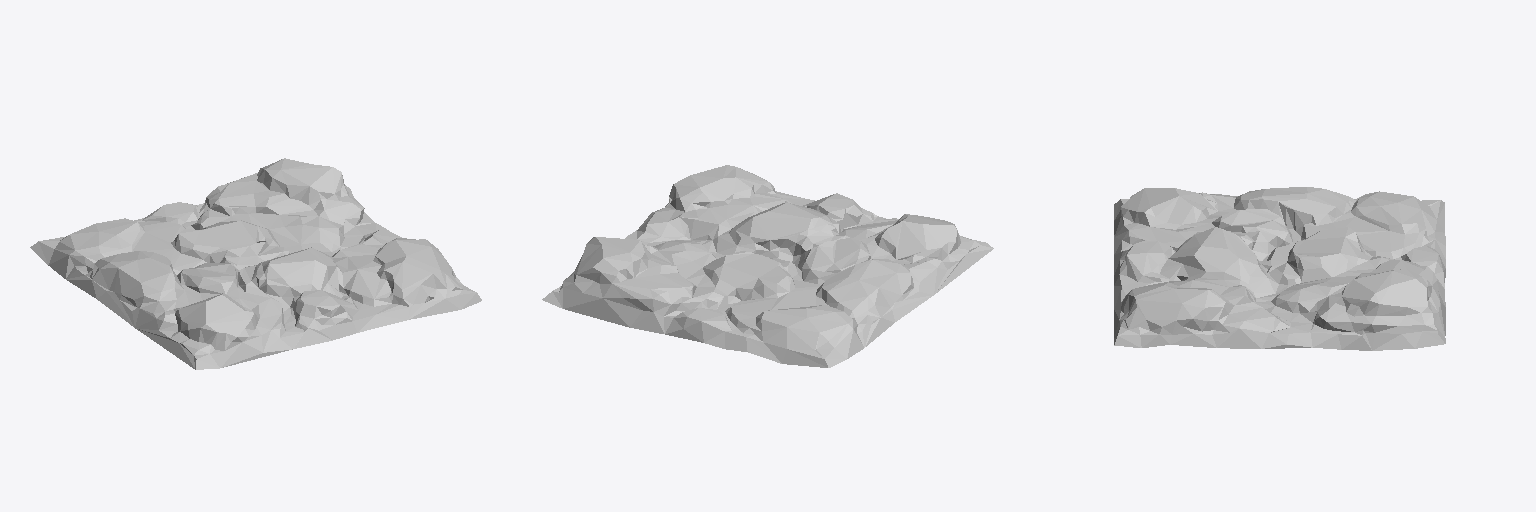
The model's file is stone_tile_1.obj.
The picture shows the model from 3 angles: view 1: azimuth 30°, elevation 25°; view 2: azimuth 150°, elevation 25°; view 3: azimuth 270°, elevation 25°; orthographic projection.
Visible parts, largest first — view 1: Tile2_Lo.001_Cube.006; view 2: Tile2_Lo.001_Cube.006; view 3: Tile2_Lo.001_Cube.006.
Part boxes in pixels (x1,y1,x2,y2): Tile2_Lo.001_Cube.006: (30,158,481,369); Tile2_Lo.001_Cube.006: (542,165,993,367); Tile2_Lo.001_Cube.006: (1114,187,1445,350).
Bounding box in the file's own units: 2 × 0.3321 × 2.